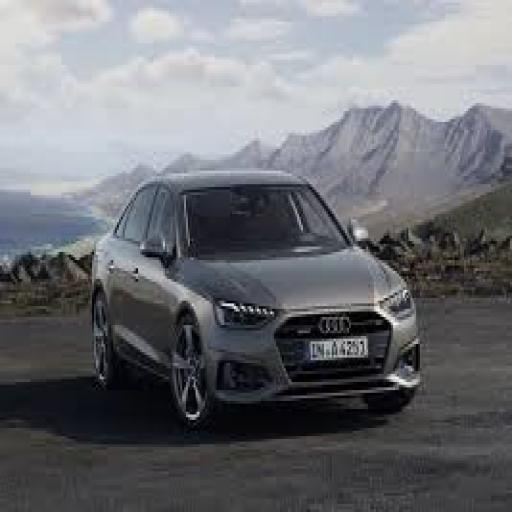car: (78, 146, 450, 450)
